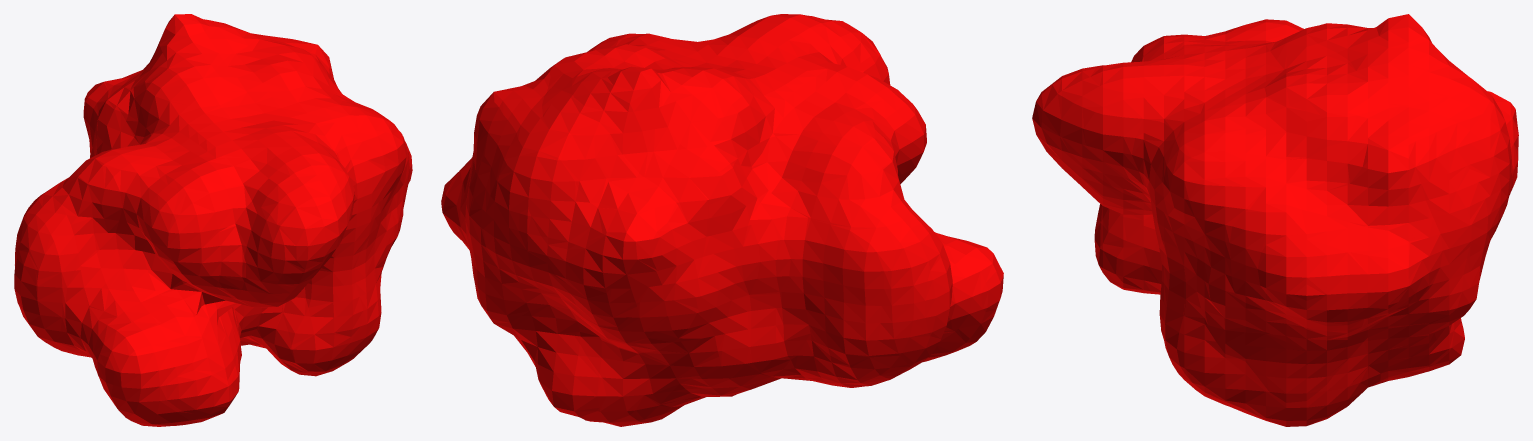
File: folM_coarse.dae
3 views of the same model, side by side, from view 1: azimuth 30°, elevation 25°; view 2: azimuth 150°, elevation 25°; view 3: azimuth 270°, elevation 25° (orthographic). The views are drawn at different scales.
Parts seen in each view (by area): view 1: folM; view 2: folM; view 3: folM.
Part boxes in pixels (x1,y1,x2,y2): folM: (14,14,412,426); folM: (441,14,1003,426); folM: (1032,14,1518,426).
Bounding box in the file's own units: 56.04 × 44.36 × 53.45.
